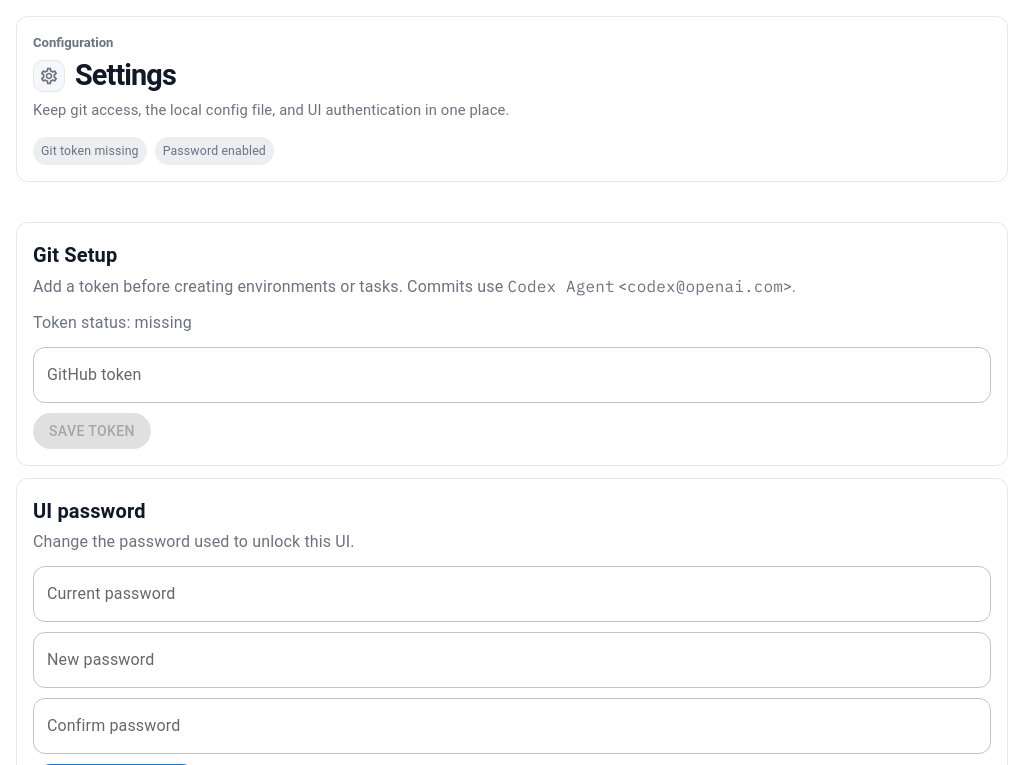
Test: SettingsTab › requires matching passwords when changing an existing password
Type "old-pass" into the password field labelled "Current password".
click(512, 594); type("old-pass")  # box [33,566,991,622]
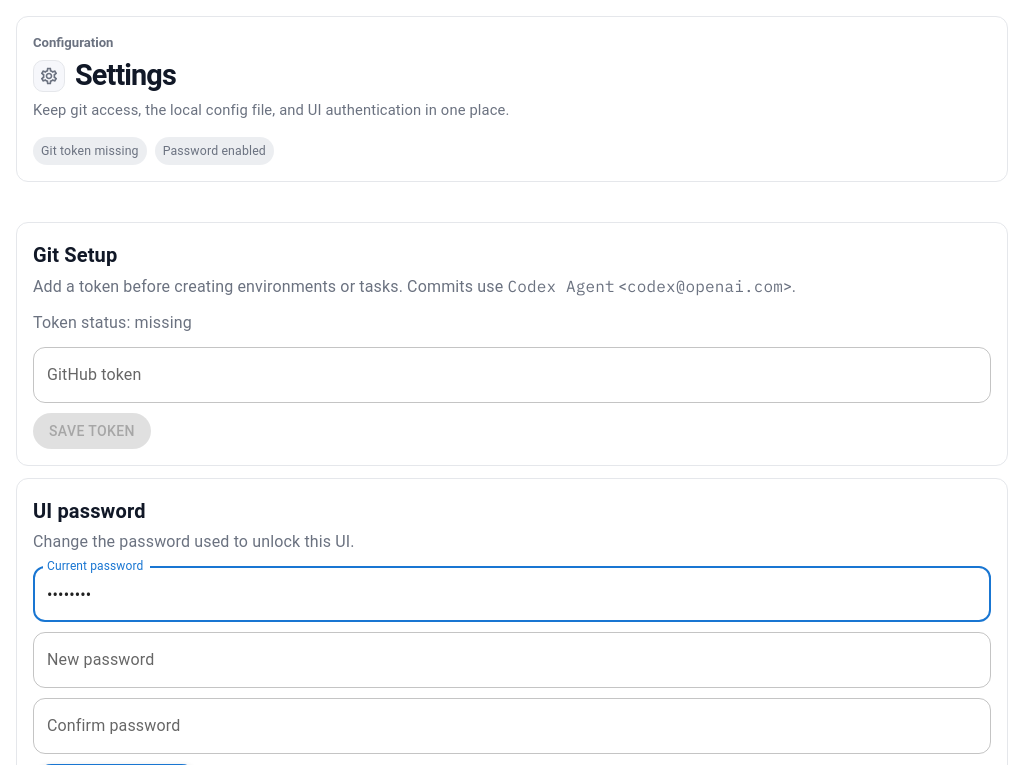
Type "new-pass" into the password field labelled "New password".
click(512, 660); type("new-pass")  # box [33,632,991,688]
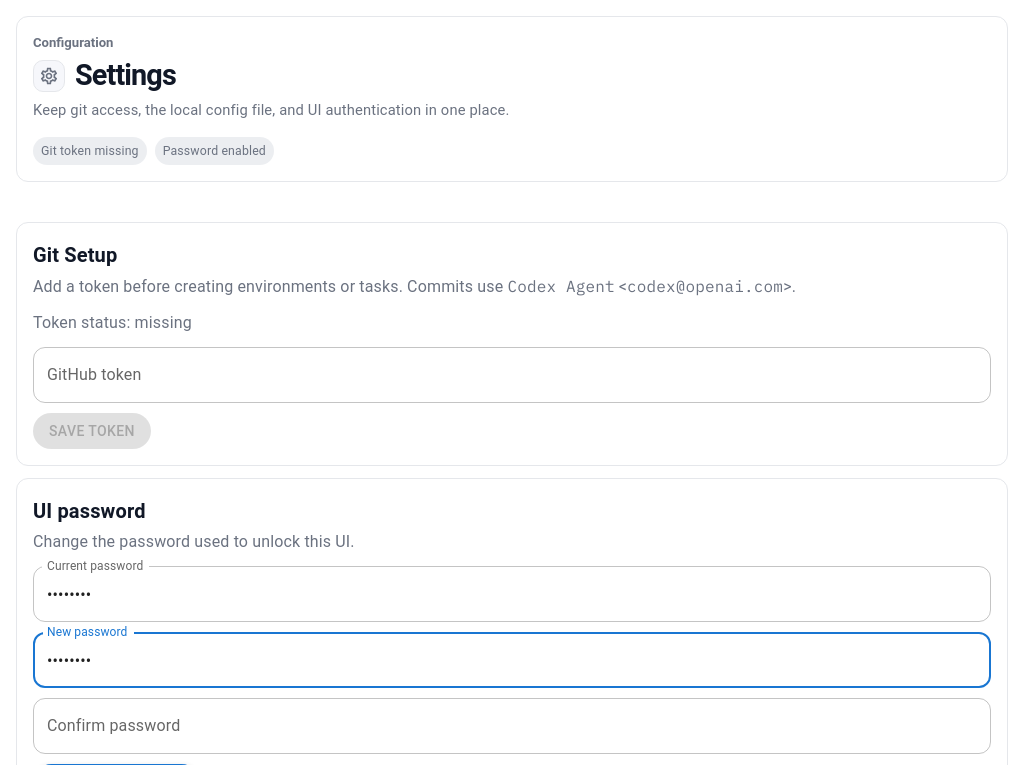
Type "different" into the password field labelled "Confirm password".
click(512, 726); type("different")  # box [33,698,991,754]
(page scrolled)
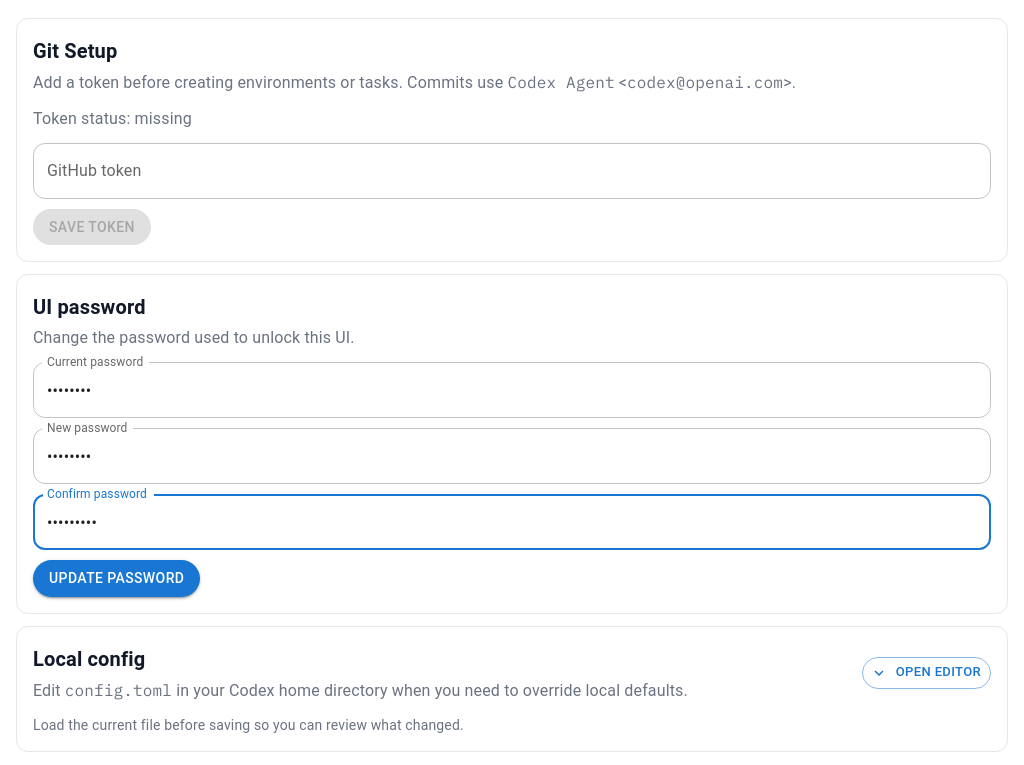
Click the button "Update password".
click(117, 578)  # box [33,560,200,597]
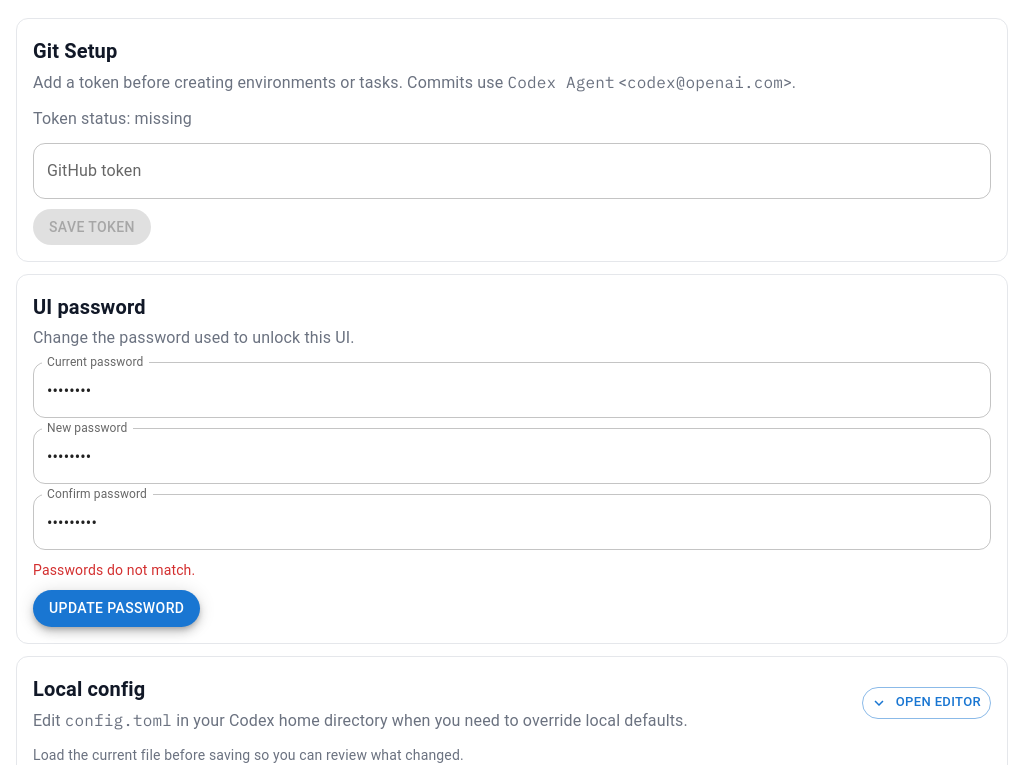
Expected: the text "Passwords do not match." is shown, [33,562,195,578]
